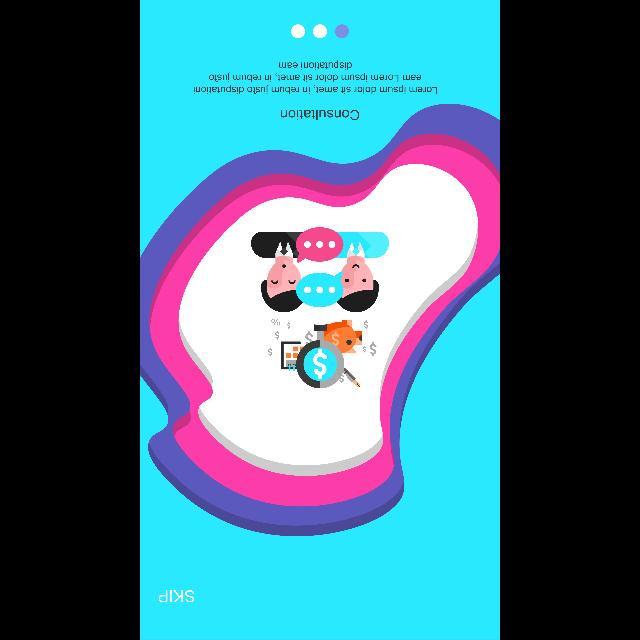backgroundimage: (140, 1, 498, 640)
image: (250, 228, 390, 388)
pageindicator: (291, 24, 349, 38)
text: (193, 60, 437, 94), (280, 109, 360, 121), (158, 590, 195, 602)
